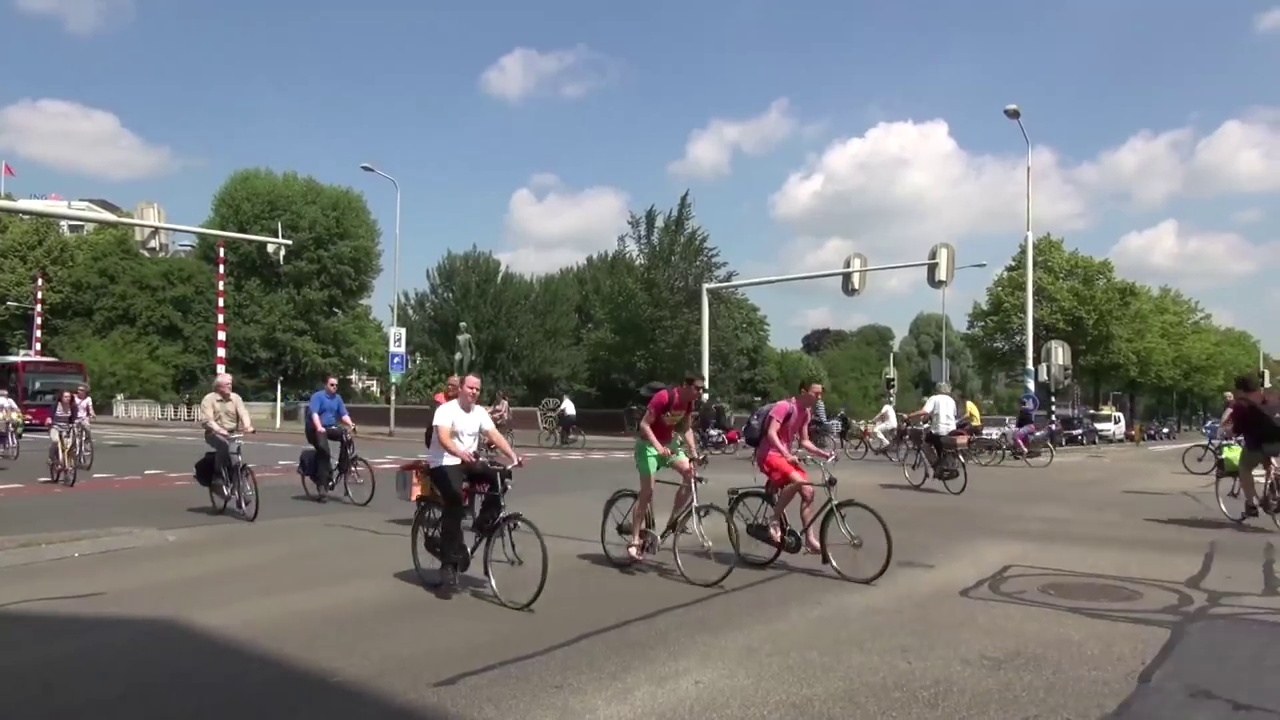cyclist_front: (194, 372, 271, 524), (35, 385, 82, 491), (60, 376, 103, 473)
cyclist_side: (402, 371, 566, 617), (726, 378, 897, 582), (600, 368, 750, 589), (298, 357, 384, 508), (888, 378, 972, 500), (978, 390, 1053, 475)
